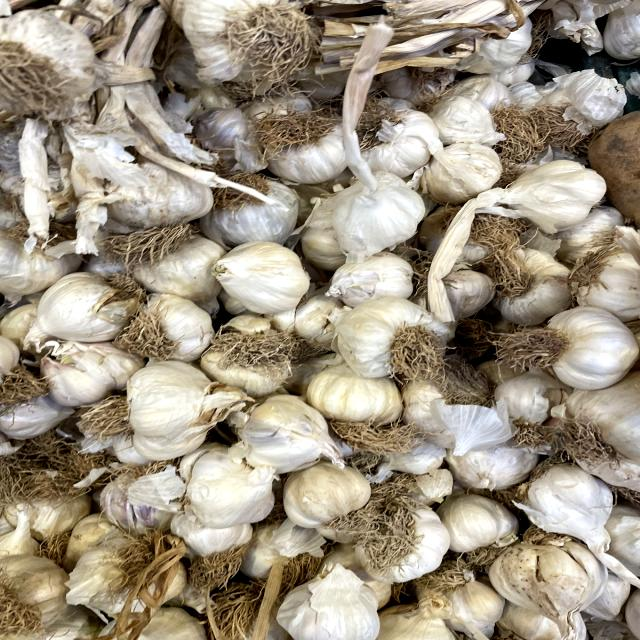garlic: (303, 147, 441, 264), (492, 296, 640, 399), (319, 291, 465, 390), (105, 354, 248, 445), (202, 238, 318, 318)
